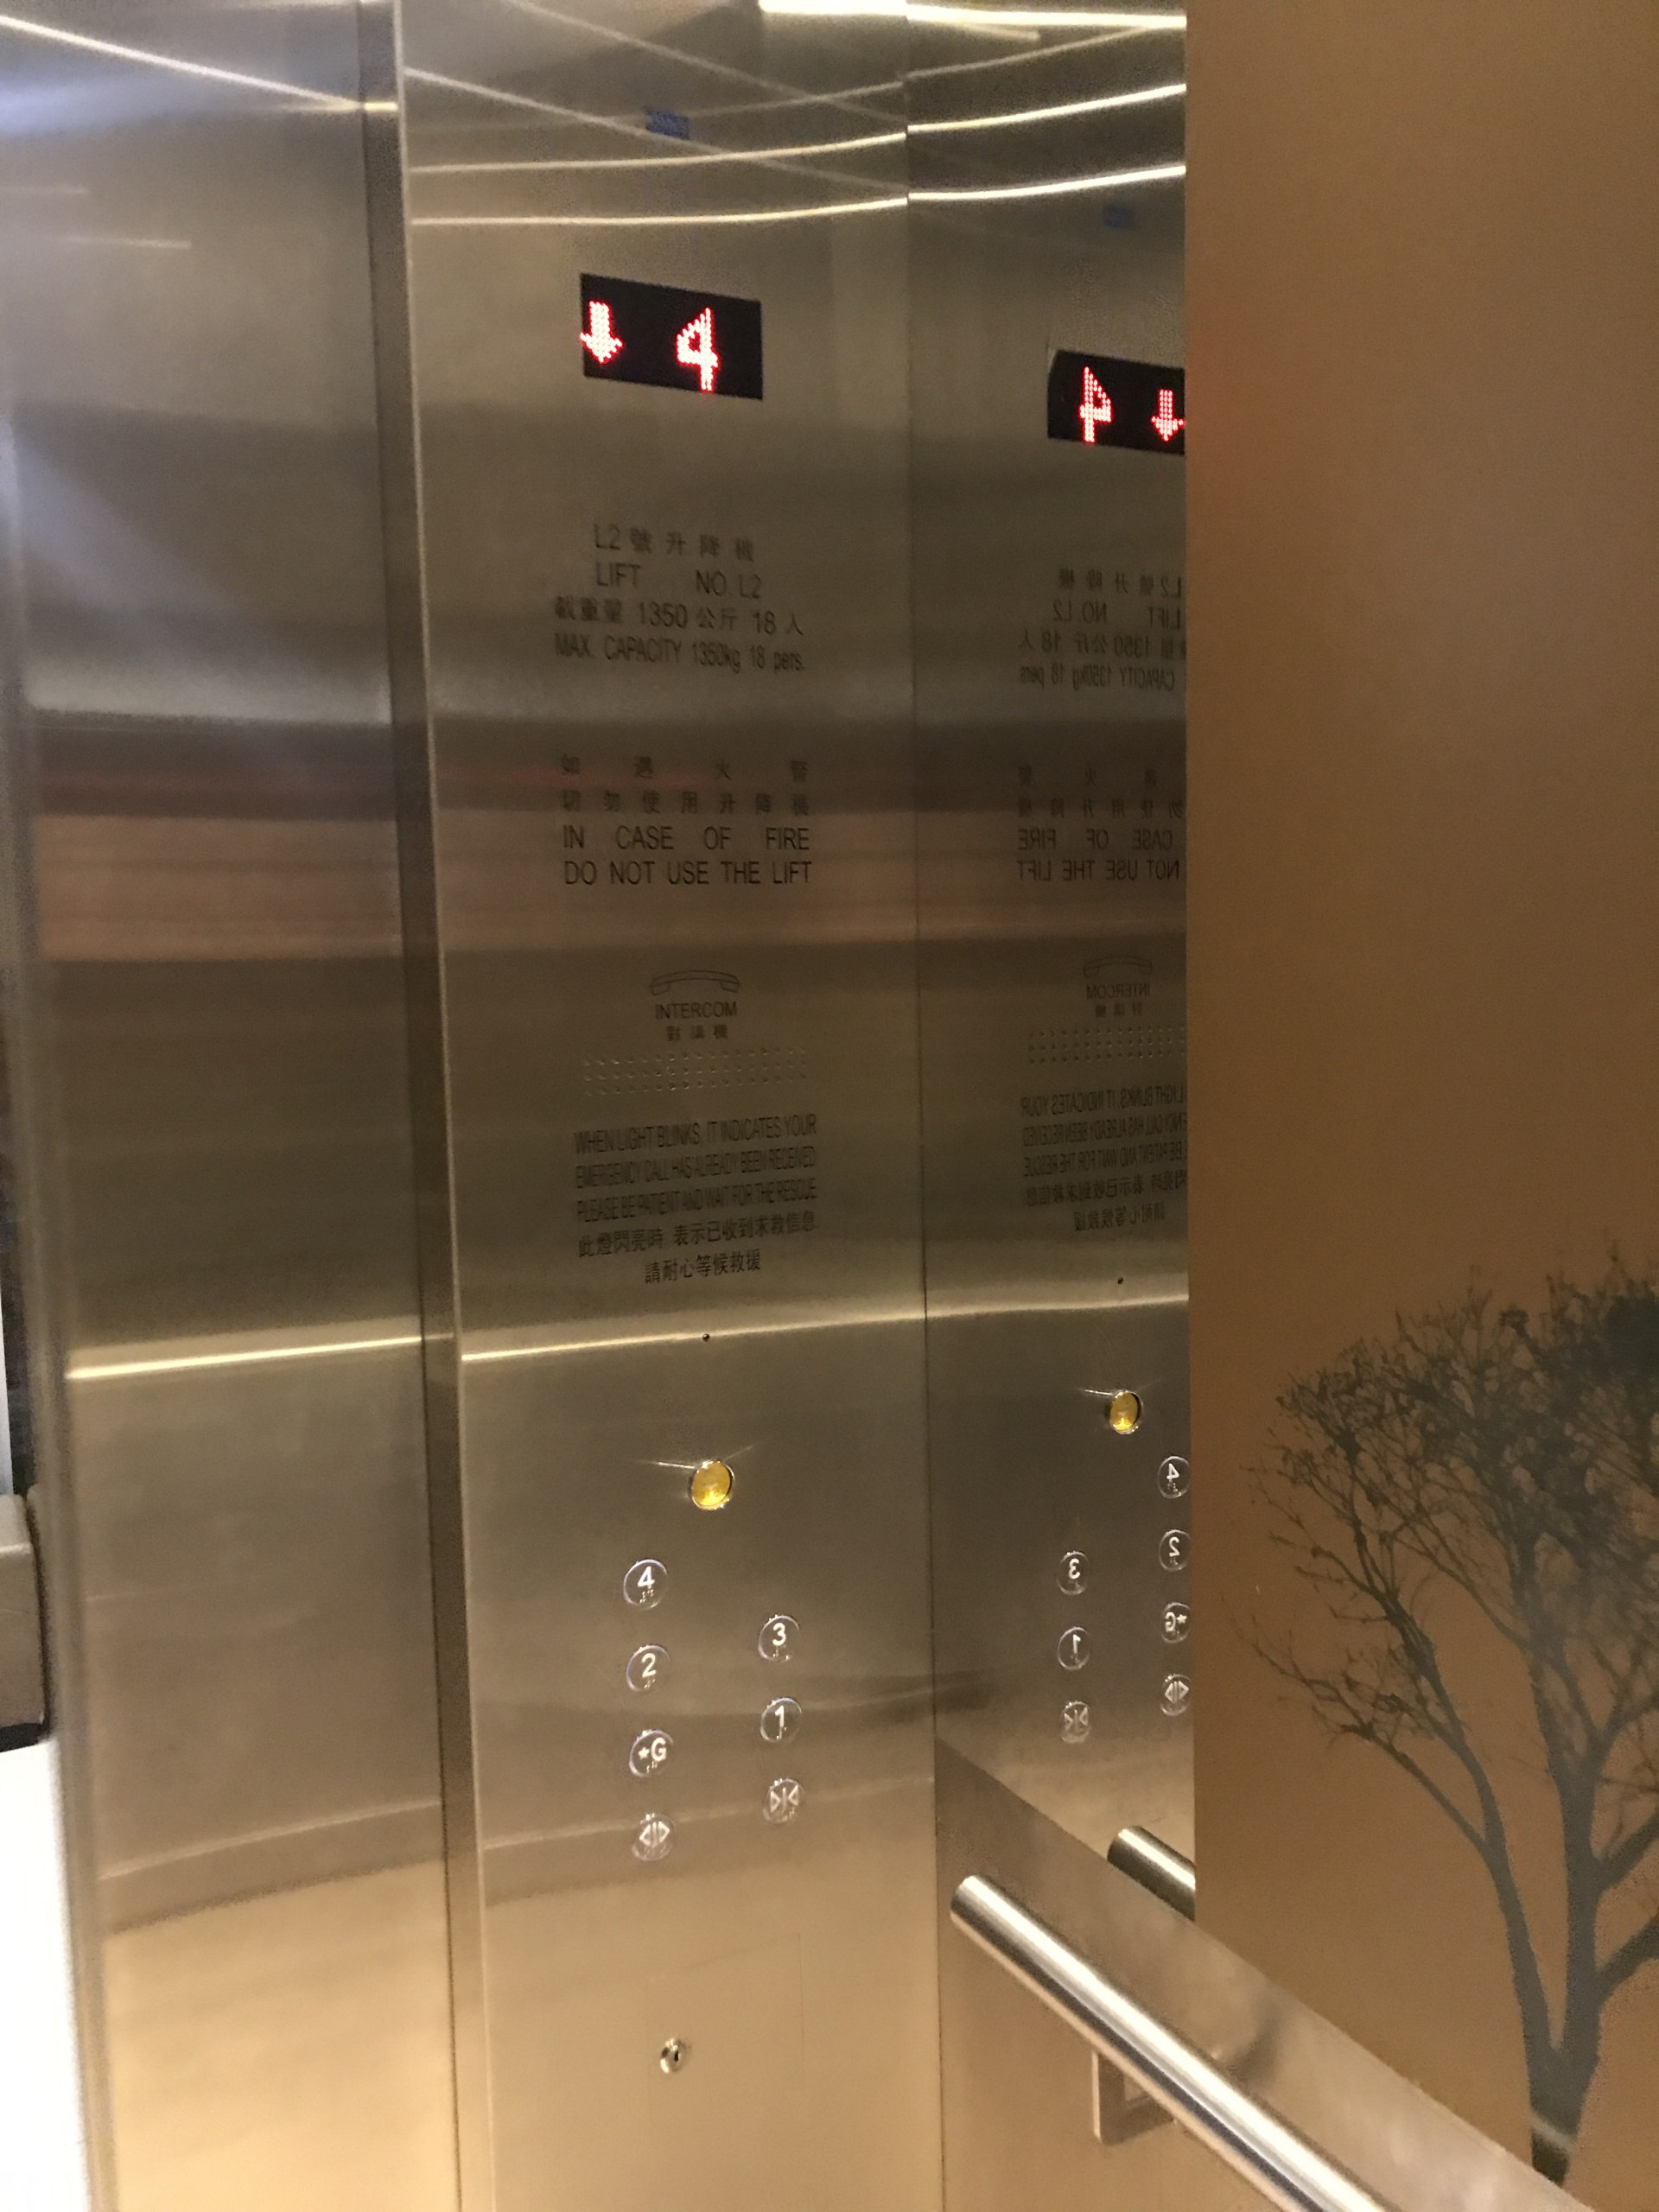1: (756, 1695, 805, 1745)
2: (622, 1642, 673, 1695)
3: (755, 1611, 803, 1665)
4: (620, 1557, 669, 1611)
alarm: (685, 1458, 739, 1512), (1101, 1386, 1145, 1437)
close: (758, 1775, 805, 1827), (1054, 1700, 1093, 1745)
open: (629, 1810, 676, 1865), (1155, 1672, 1194, 1717)
sG: (626, 1726, 676, 1780)
unknown: (1053, 1550, 1094, 1597), (1053, 1623, 1094, 1670), (1157, 1599, 1195, 1644), (1155, 1454, 1194, 1500), (1155, 1527, 1194, 1571)
